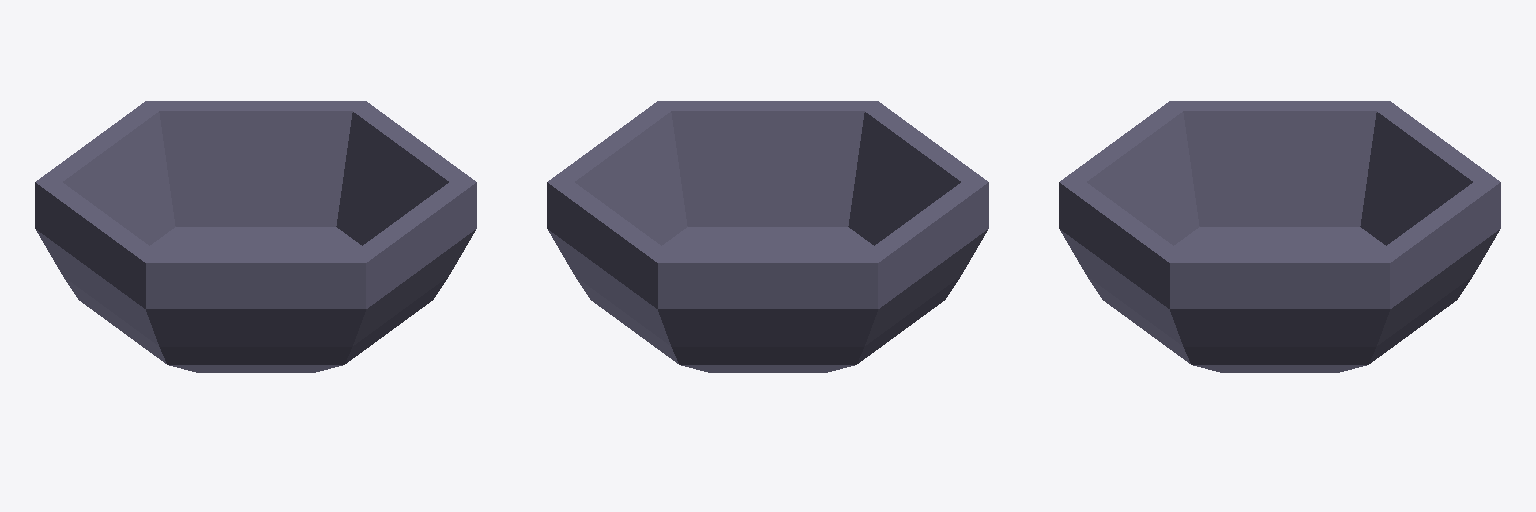
File: Bowl.obj
3 renders of one model, left to right at view 1: azimuth 30°, elevation 25°; view 2: azimuth 150°, elevation 25°; view 3: azimuth 270°, elevation 25°, orthographic.
Visible parts, largest first — view 1: bowl; view 2: bowl; view 3: bowl.
Part boxes in pixels (x1,y1,x2,y2): bowl: (35, 101, 476, 372); bowl: (547, 101, 988, 372); bowl: (1059, 101, 1500, 372).
Bounding box in the file's own units: 0.5022 × 0.2138 × 0.5798.